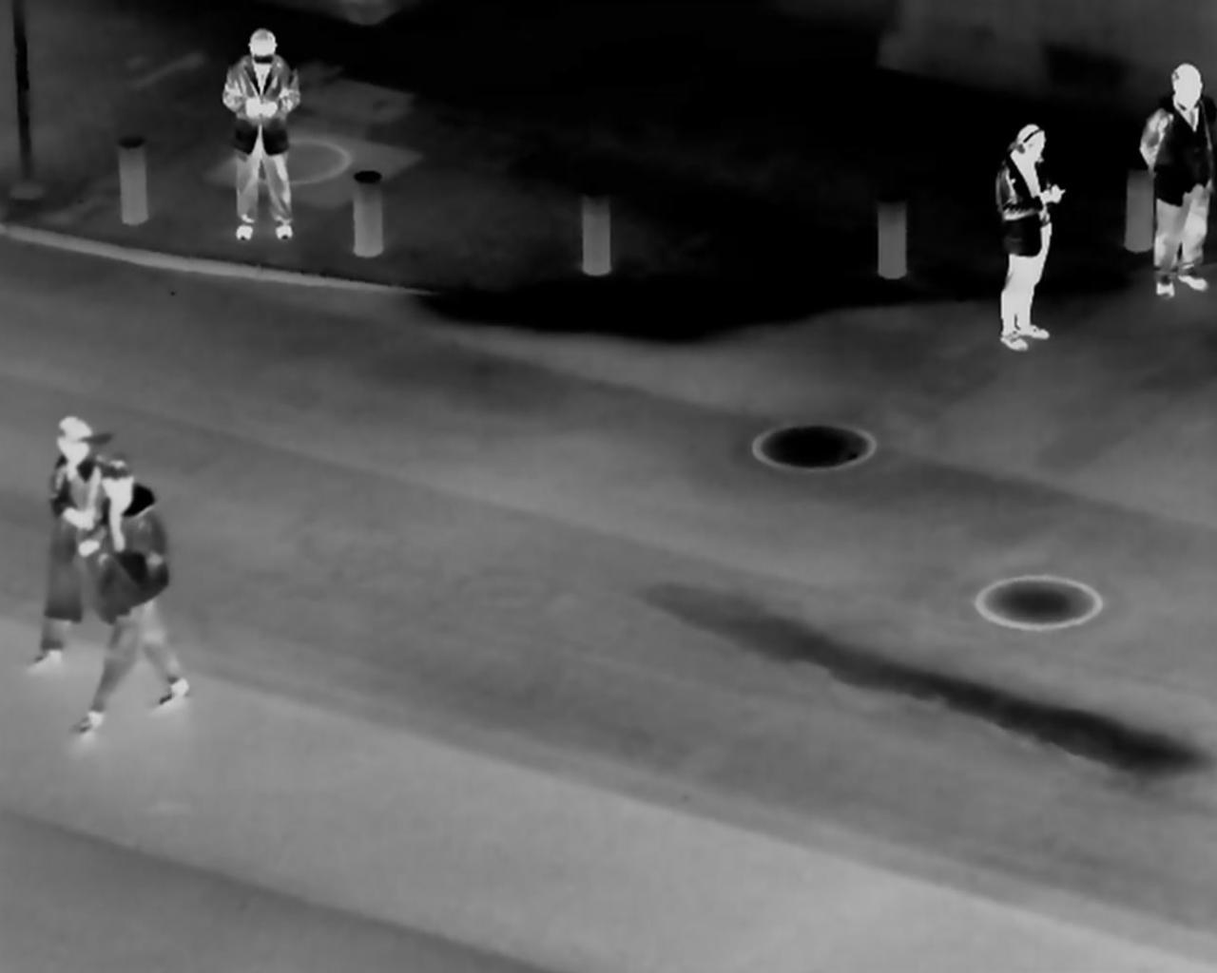person: (72, 454, 196, 741), (975, 107, 1067, 354), (30, 405, 112, 681), (1132, 52, 1212, 308), (222, 23, 303, 241)
